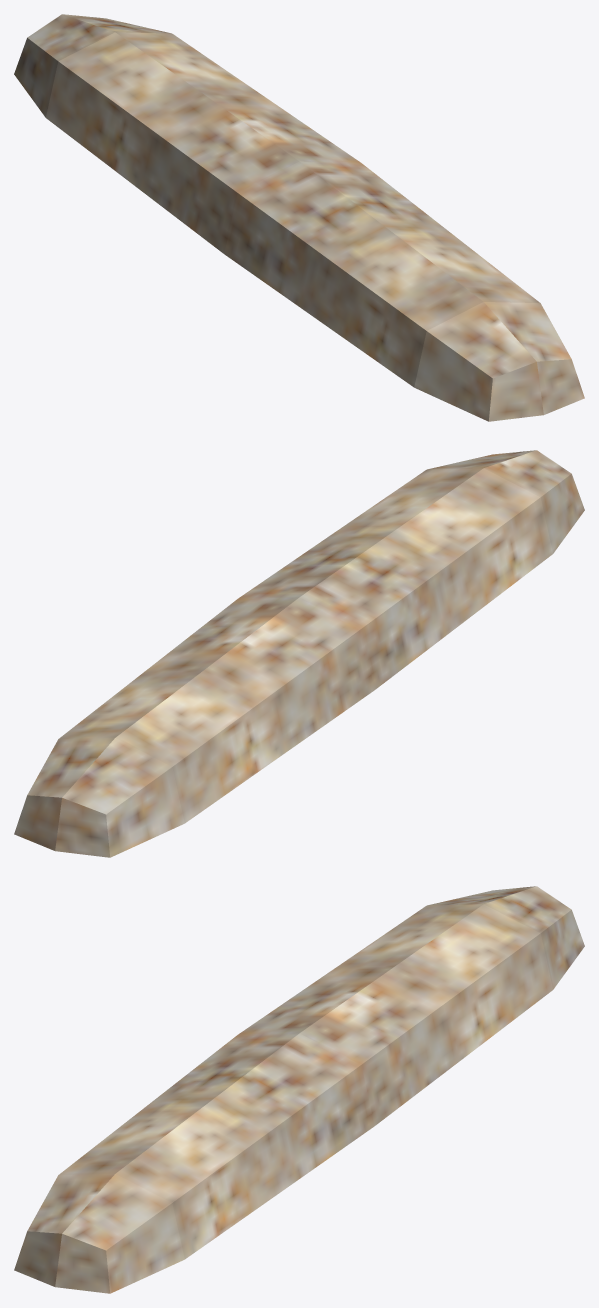
The model's file is oatveil_roll_top.fbx.
The picture shows the model from 3 angles, top to bottom: view 1: azimuth 30°, elevation 25°; view 2: azimuth 150°, elevation 25°; view 3: azimuth 330°, elevation 25°; orthographic projection.
Visible parts, largest first — view 1: oatveil roll top; view 2: oatveil roll top; view 3: oatveil roll top.
Part boxes in pixels (left/top/right/bottom): oatveil roll top: left=14, top=14, right=584, bottom=421; oatveil roll top: left=14, top=450, right=584, bottom=857; oatveil roll top: left=14, top=886, right=584, bottom=1293.
Bounding box in the file's own units: 0.2082 × 1.17 × 0.099.
